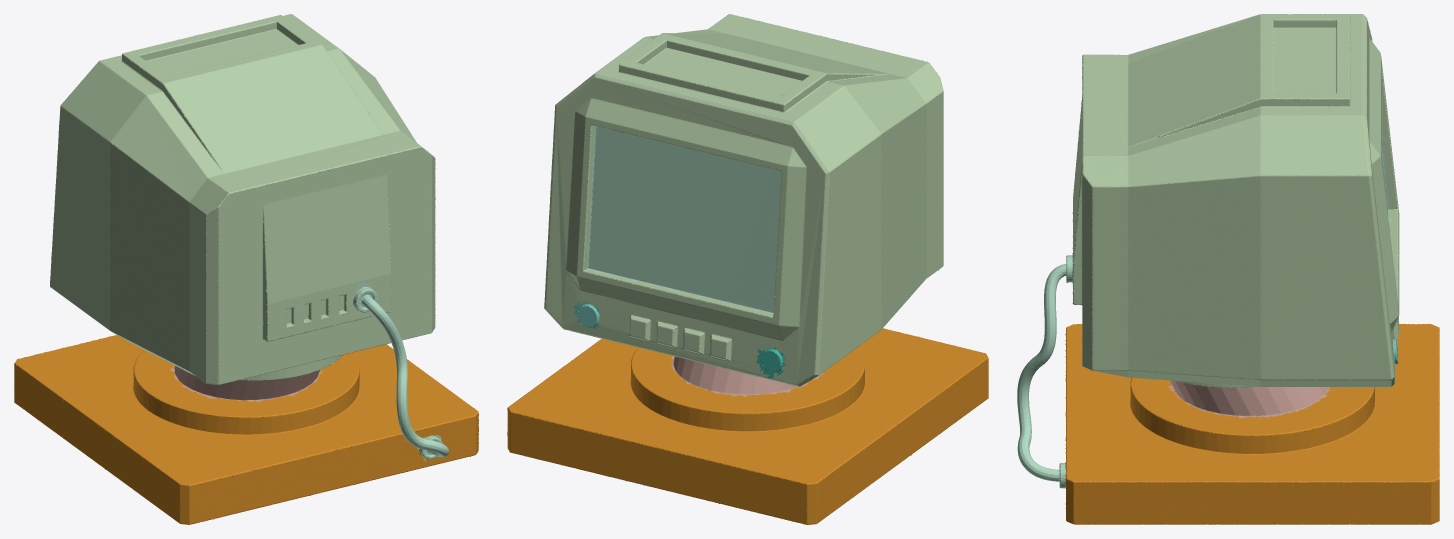
3 views of the same model, side by side, from view 1: azimuth 30°, elevation 25°; view 2: azimuth 150°, elevation 25°; view 3: azimuth 270°, elevation 25° (orthographic). The views are drawn at different scales.
Visible parts, largest first — view 1: world; view 2: world; view 3: world.
Boxes of the visible parts, x1,y1,x2,y2 form: world: (14, 14, 478, 524); world: (507, 14, 988, 524); world: (1017, 14, 1439, 524).
Bounding box in the file's own units: 1.66 × 1.91 × 1.88.
